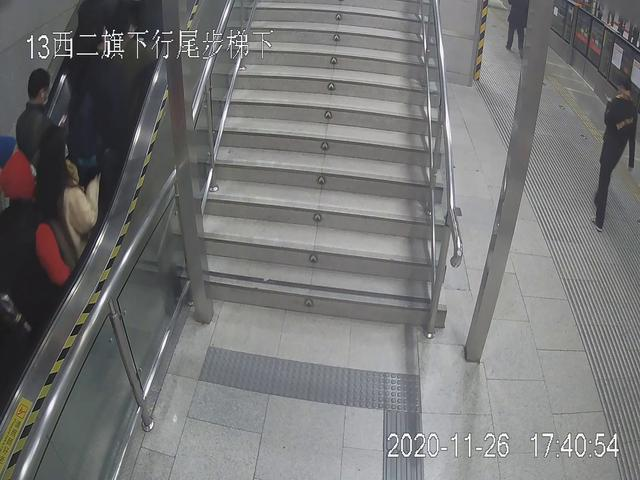person: (22, 121, 104, 273), (588, 73, 640, 244)
